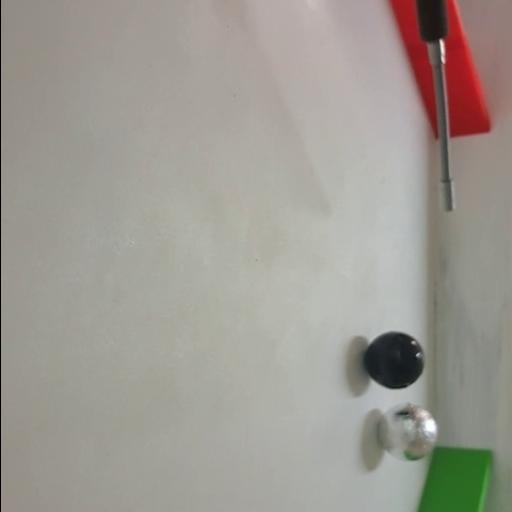alive: (377, 402, 436, 460)
dead: (364, 330, 424, 390)
